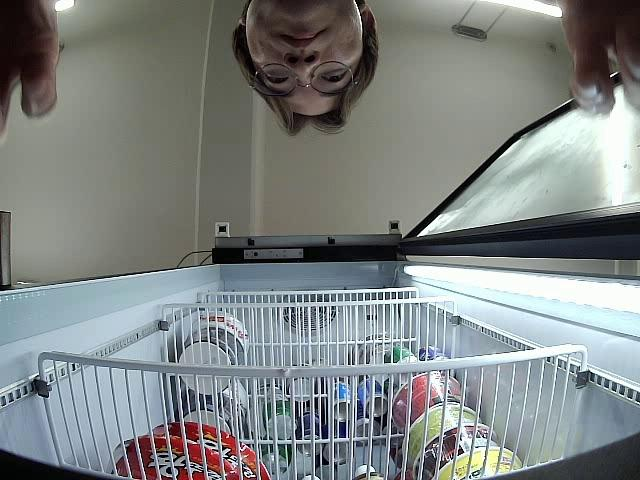00_hand: (553, 0, 640, 114), (0, 0, 62, 138)
